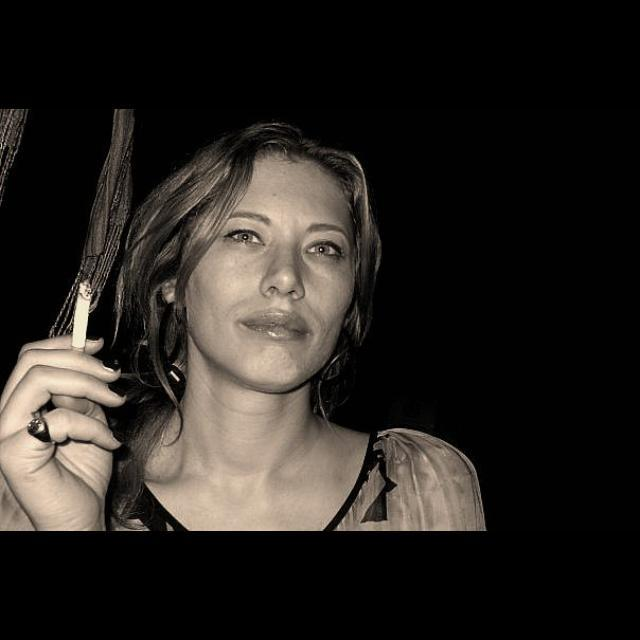rokok: (67, 280, 97, 354)
